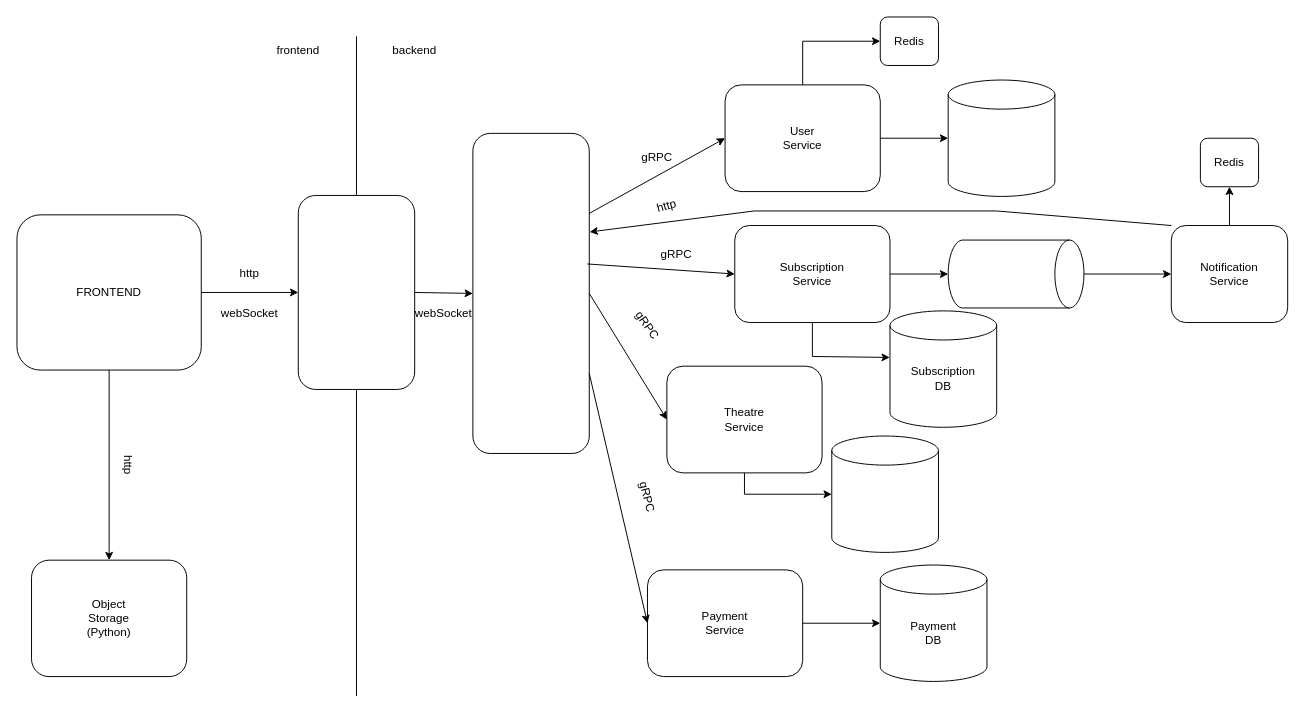
This 1305x714 diagram has some shape labels left out. Each missing label, with the box of its shape:
API gateway: (472, 132, 589, 453)
Kafka: (947, 239, 1084, 308)
NGINX: (297, 194, 415, 389)
Theatre DB: (831, 435, 938, 552)
User DB: (947, 79, 1055, 196)
